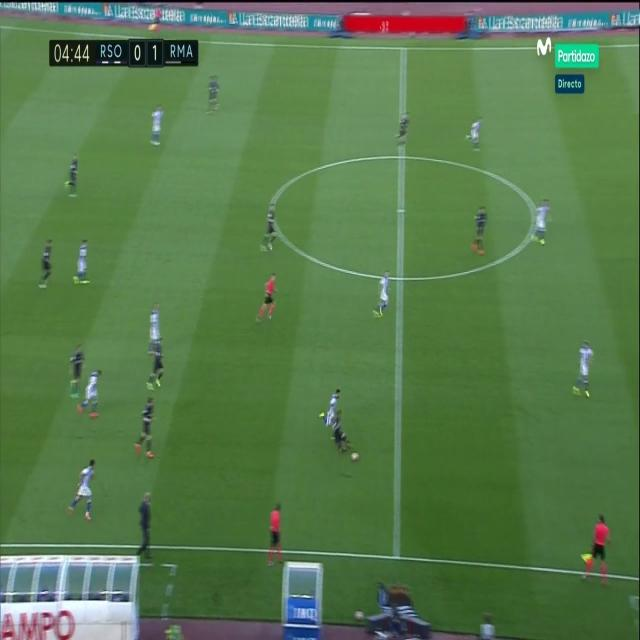Ball: (349, 447, 360, 465)
Player: (64, 456, 97, 524), (75, 365, 105, 423), (571, 337, 595, 401), (132, 396, 154, 463), (66, 344, 88, 404), (316, 386, 342, 436), (36, 234, 57, 294), (529, 194, 552, 247), (259, 200, 280, 256), (72, 237, 92, 294), (147, 340, 167, 395), (371, 270, 392, 321), (472, 200, 489, 260), (62, 150, 80, 204), (203, 69, 221, 120), (394, 109, 412, 152), (464, 115, 482, 156), (150, 101, 164, 152), (148, 303, 164, 347)
Referee: (578, 514, 614, 587), (264, 503, 286, 569), (255, 271, 280, 324)
